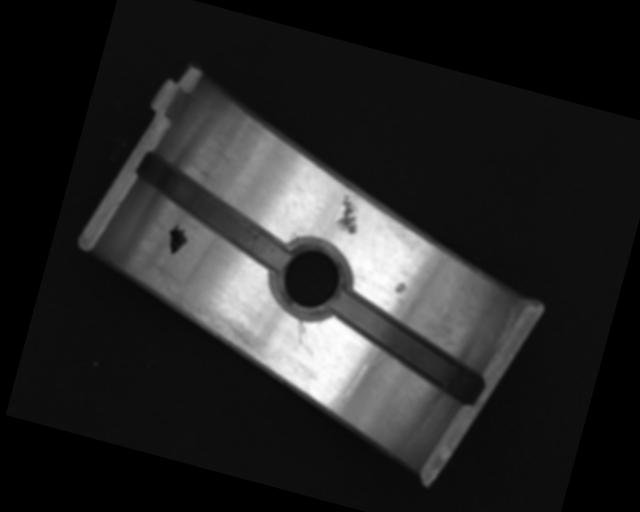blot: (163, 221, 191, 258)
bruise: (334, 193, 367, 237), (393, 279, 409, 297)
gap: (121, 151, 304, 274), (321, 290, 496, 405)
hole: (261, 232, 358, 330)
nick: (325, 356, 370, 418), (292, 316, 310, 345)
scratch: (120, 268, 270, 357)
